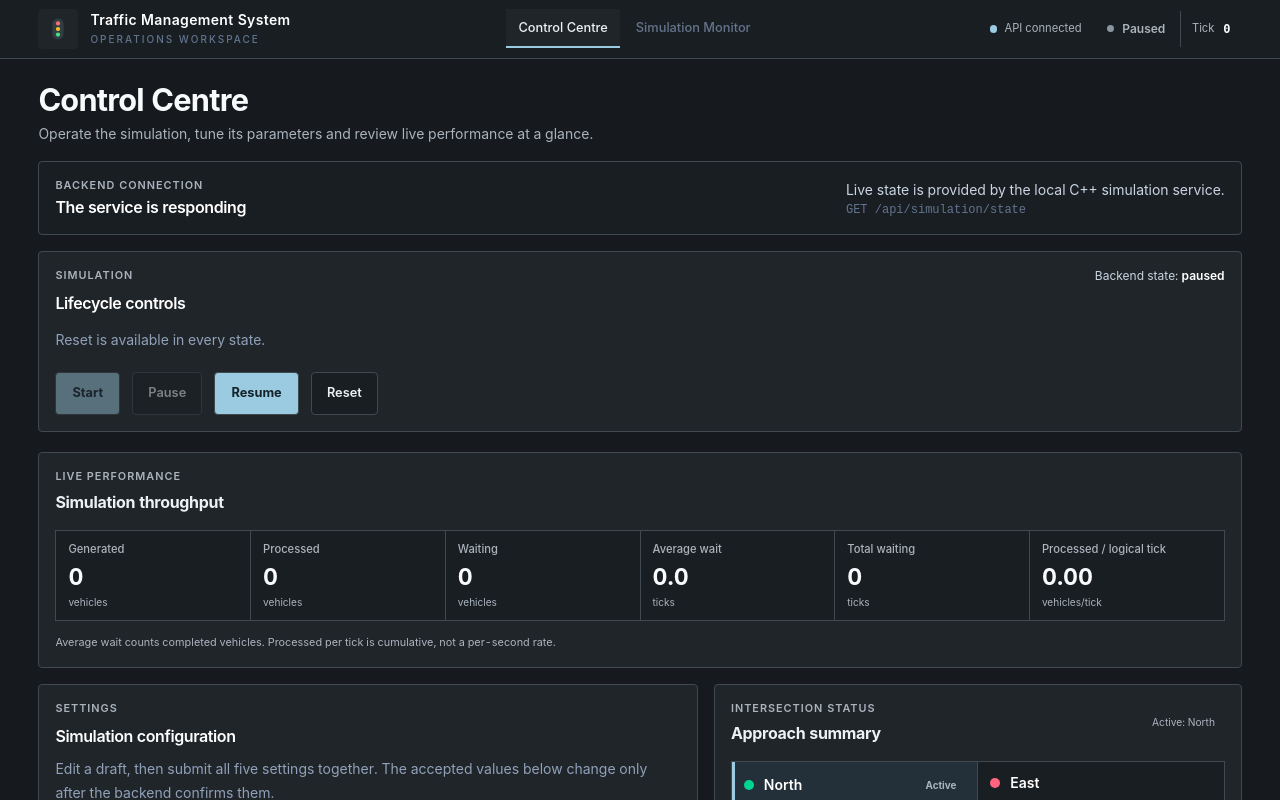
Test: simulation controls and configuration › calls reset and refreshes authoritative state
Expected: the heading "Lifecycle controls" is shown, [55,291,185,316]
Expected: the heading "Simulation configuration" is shown, [55,726,236,746]
Click the button "Reset" at (344, 394), box [311,372,378,415]
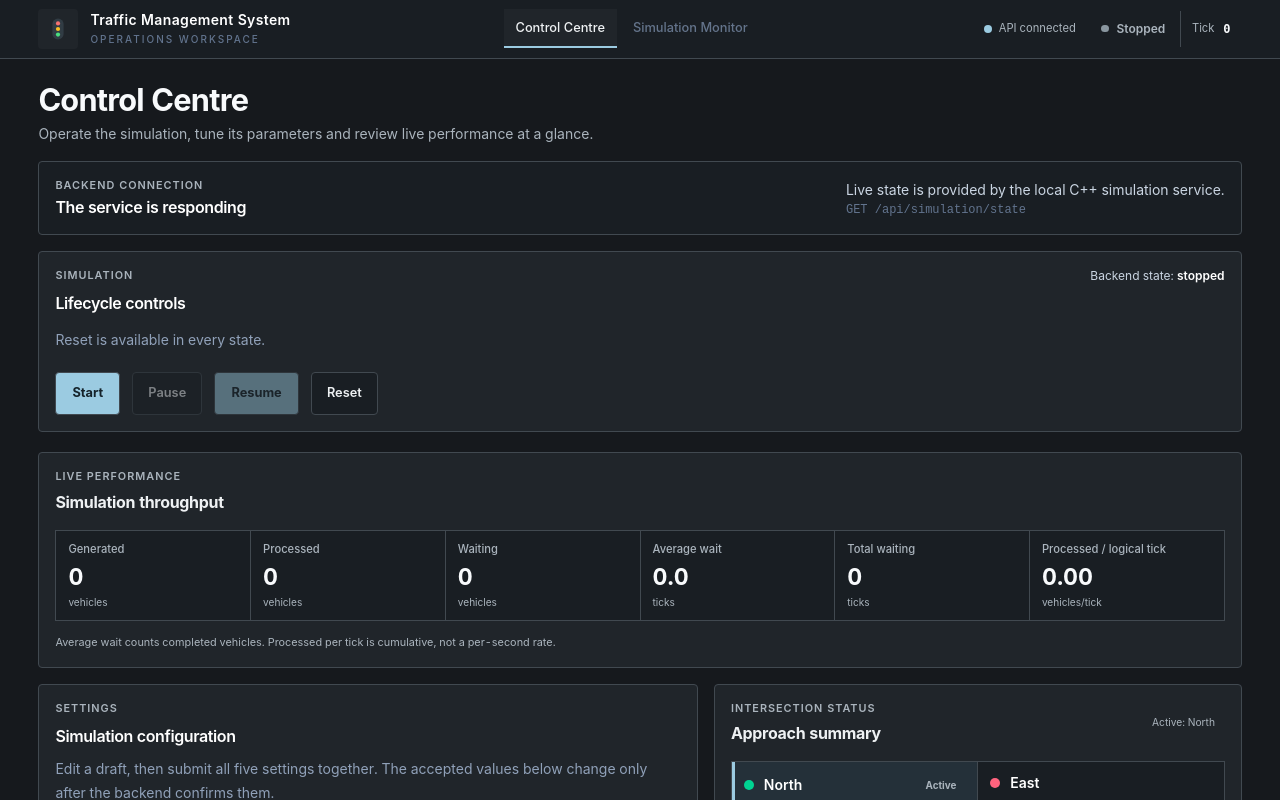
Expected: the element "Lifecycle controls" shows "stopped", [1177,268,1225,283]
